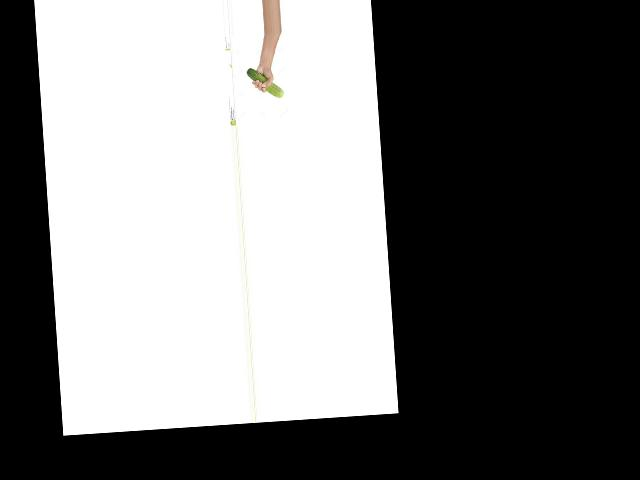cucumber: (246, 65, 283, 99)
